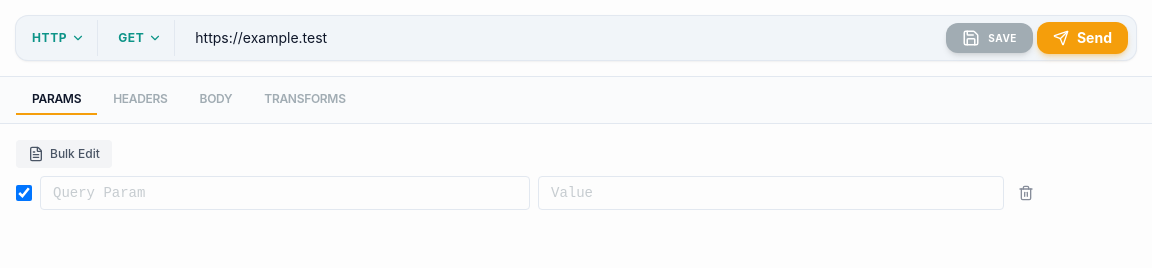
Test: RequestEditor body section › shows read-only pre-request template preview when JSON body is empty
The width and height of the screenshot is (1152, 268).
Expected: the button "GET" is shown, [106,30,174,46]
Click the button "body" at (216, 100), box [184,85,248,115]
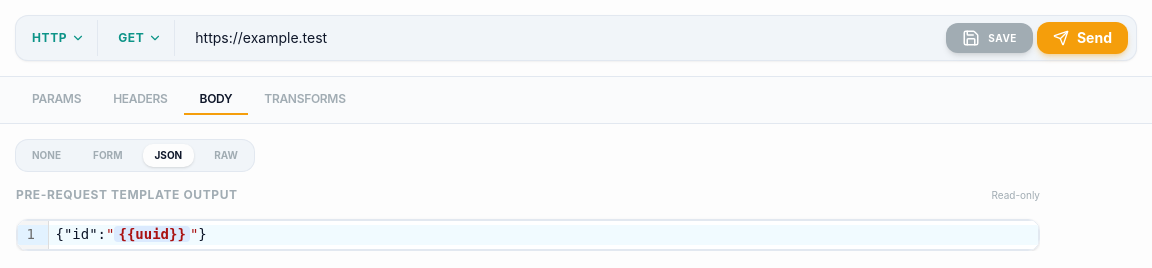
Result: the text "Pre-request Template Output" is shown at [16,187,238,203]
Result: the text "Read-only" is shown at [991,188,1040,202]
Result: the field with class "cm-content" reads "{\"id\":\"{{uuid}}\"}" at [49,221,1038,249]
